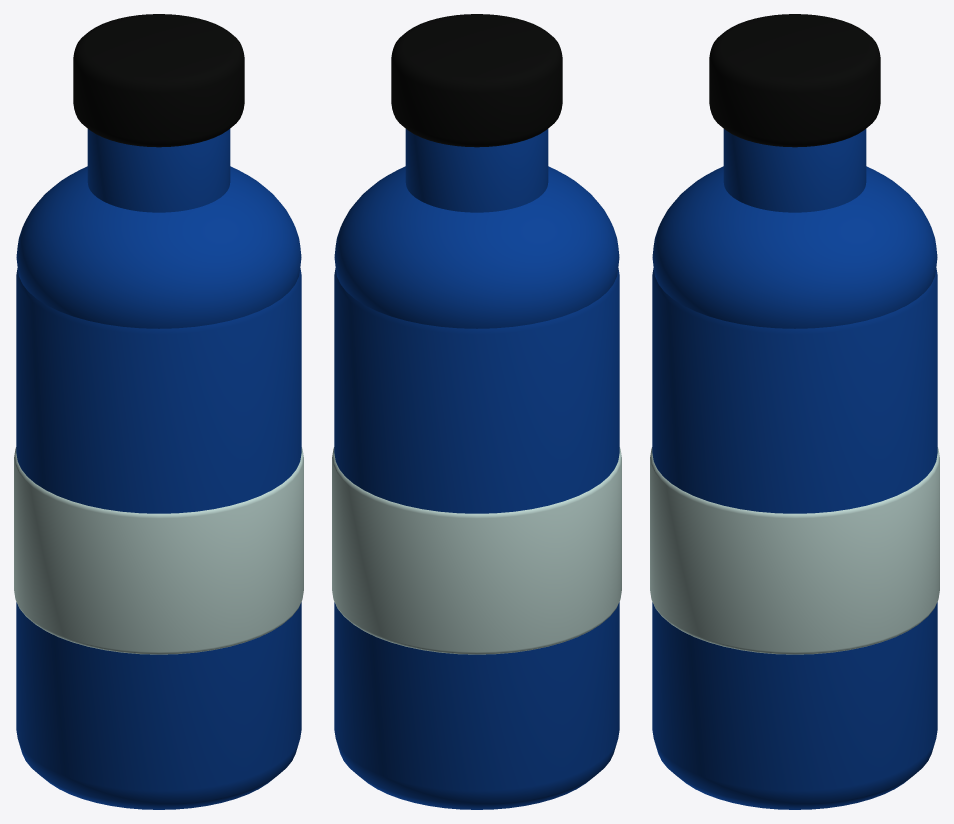
Rendered from Bottle.obj.
The picture shows the model from 3 angles, left to right: view 1: azimuth 30°, elevation 25°; view 2: azimuth 150°, elevation 25°; view 3: azimuth 270°, elevation 25°; orthographic projection.
Visible parts, largest first — view 1: Bottle_Body, Bottle_Label, Bottle_Shoulder, Bottle_Cap, Bottle_Neck; view 2: Bottle_Body, Bottle_Label, Bottle_Shoulder, Bottle_Cap, Bottle_Neck; view 3: Bottle_Body, Bottle_Label, Bottle_Shoulder, Bottle_Cap, Bottle_Neck.
Boxes of the visible parts, left/top/right/bottom form: Bottle_Body: left=16, top=268, right=301, bottom=809; Bottle_Label: left=14, top=447, right=303, bottom=654; Bottle_Shoulder: left=16, top=166, right=301, bottom=328; Bottle_Cap: left=73, top=14, right=244, bottom=147; Bottle_Neck: left=87, top=129, right=230, bottom=212; Bottle_Body: left=334, top=268, right=619, bottom=809; Bottle_Label: left=332, top=447, right=621, bottom=654; Bottle_Shoulder: left=334, top=166, right=619, bottom=328; Bottle_Cap: left=391, top=14, right=562, bottom=147; Bottle_Neck: left=405, top=129, right=548, bottom=212; Bottle_Body: left=652, top=268, right=937, bottom=809; Bottle_Label: left=650, top=447, right=939, bottom=654; Bottle_Shoulder: left=652, top=166, right=937, bottom=328; Bottle_Cap: left=709, top=14, right=880, bottom=147; Bottle_Neck: left=723, top=129, right=866, bottom=212.
Bounding box in the file's own units: 0.61 × 1.66 × 0.61.
